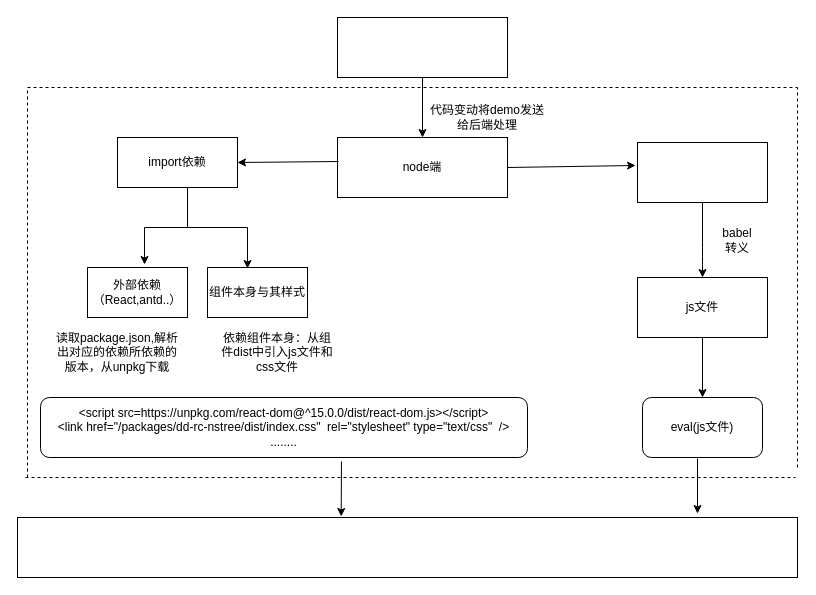
Image size: 816x595. Some labels were removed from this diagram. The centre of each missing label's shape, as x and y in pixels:
es6 class类: the point at 702,172
HTML文件: the point at 407,547
web前端: the point at 422,47
